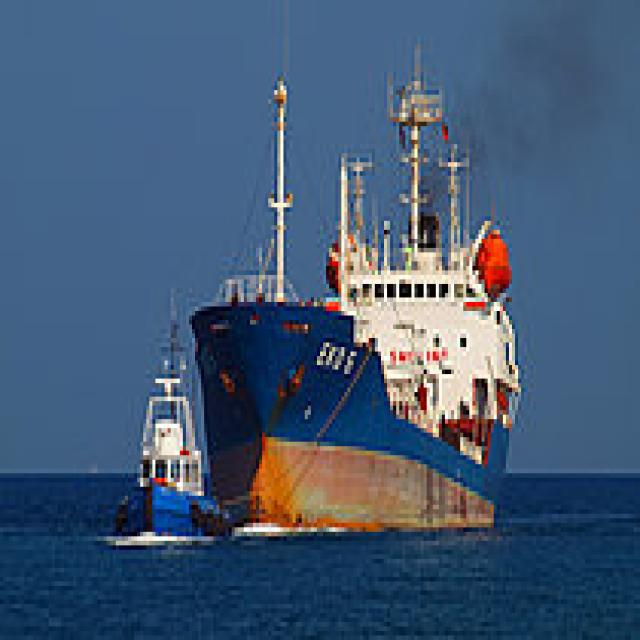Tanker: (186, 36, 518, 527)
